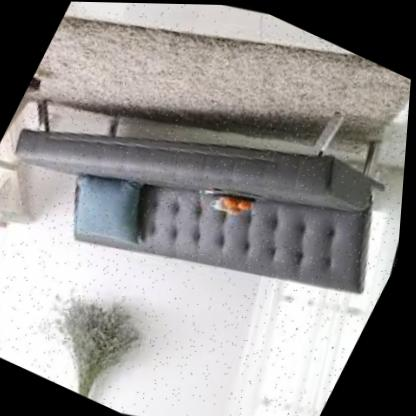Carpet: (24, 16, 412, 119)
Sofa: (0, 25, 415, 356)
